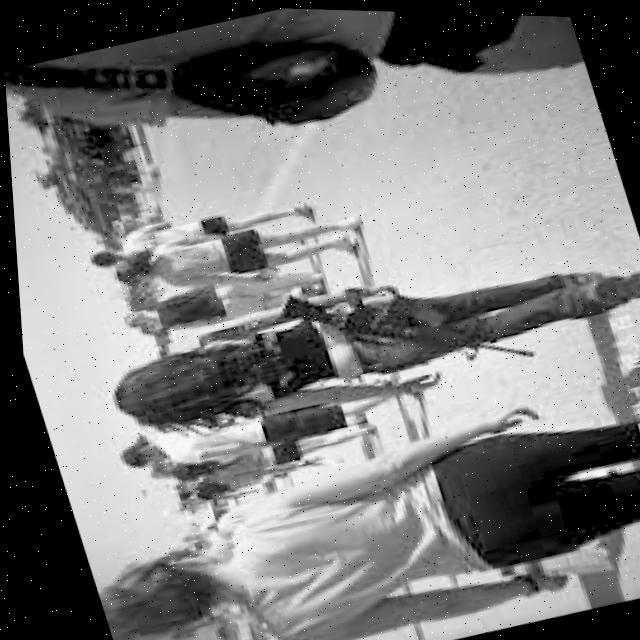firearm: (269, 243, 535, 411)
